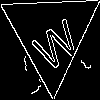W: (26, 9, 83, 74)
